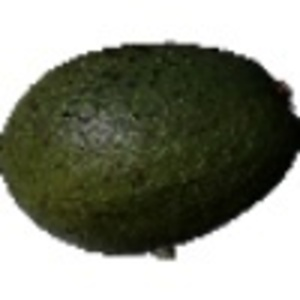abacate: (2, 36, 296, 248)
